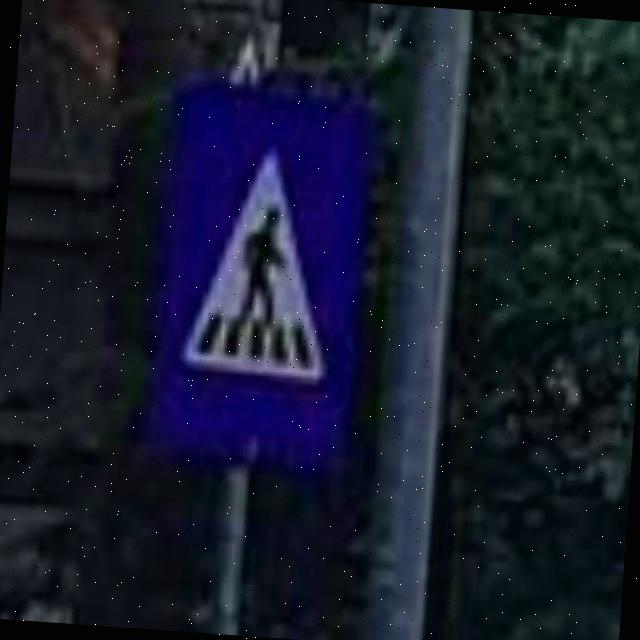Przejscie dla pieszych: (159, 89, 372, 443)
